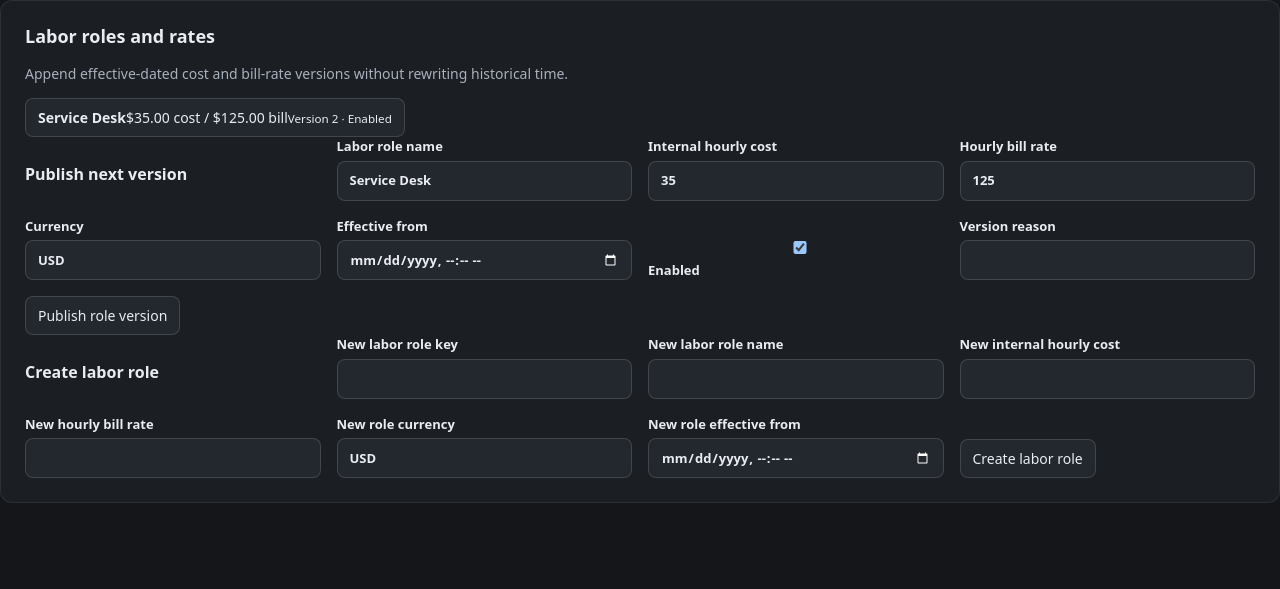
Test: lists effective labor versions and appends reasoned replacements
Expected: the text "Service Desk" is shown, [38, 108, 126, 127]
Expected: the text "$35.00 cost / $125.00 bill" is shown, [126, 108, 288, 127]
Step 1. Replace the text in the number field labelled "Internal hourly cost" with "40" → (796, 181), box [648, 161, 944, 201]
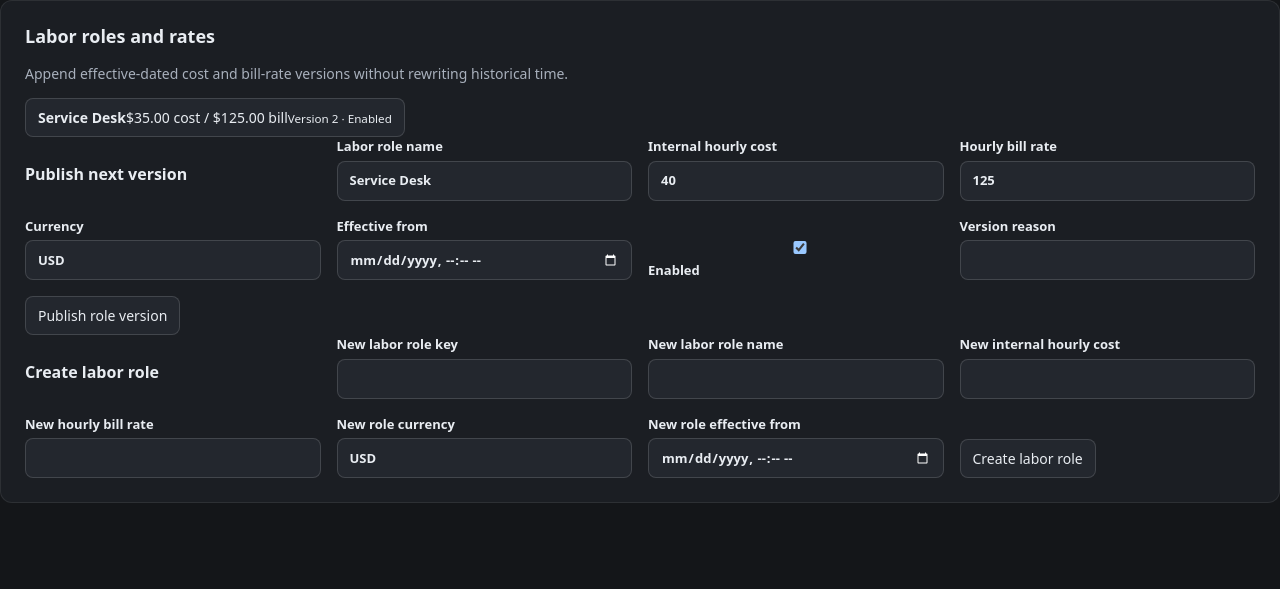
Step 2. Replace the text in the number field labelled "Hourly bill rate" with "130" → (1107, 181), box [960, 161, 1255, 201]
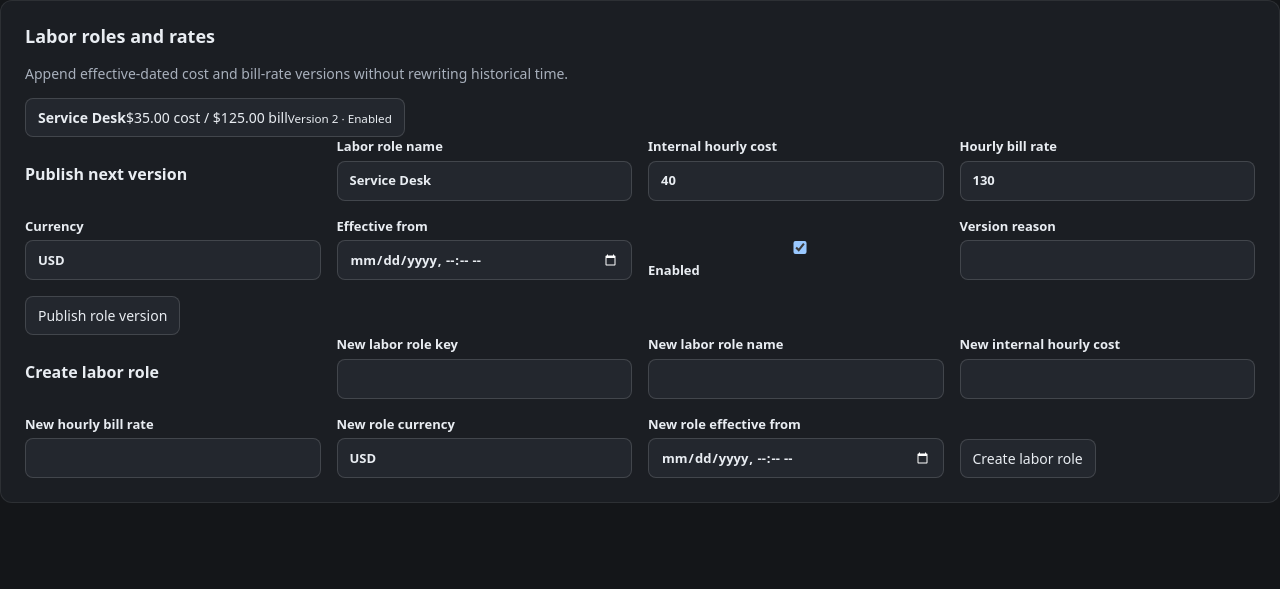
Step 3. Type "2026-09-01T00:00" into the field labelled "Effective from" → (484, 260), box [336, 240, 632, 280]
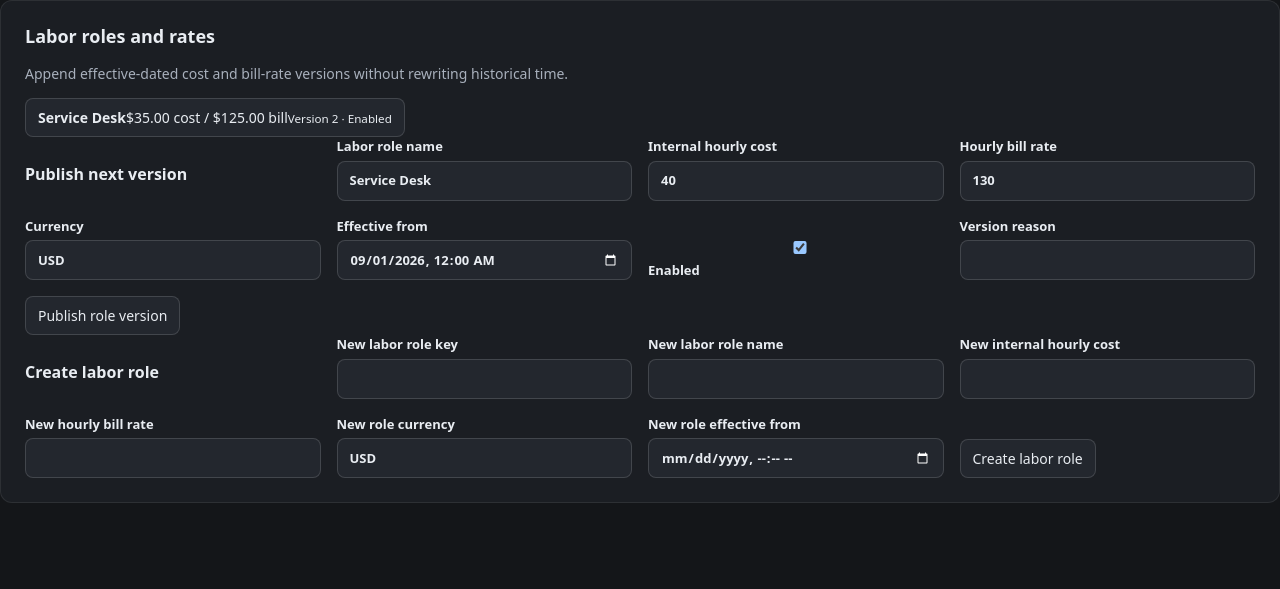
Step 4. Click the checkbox labelled "Enabled" → (800, 247), box [652, 241, 948, 254]
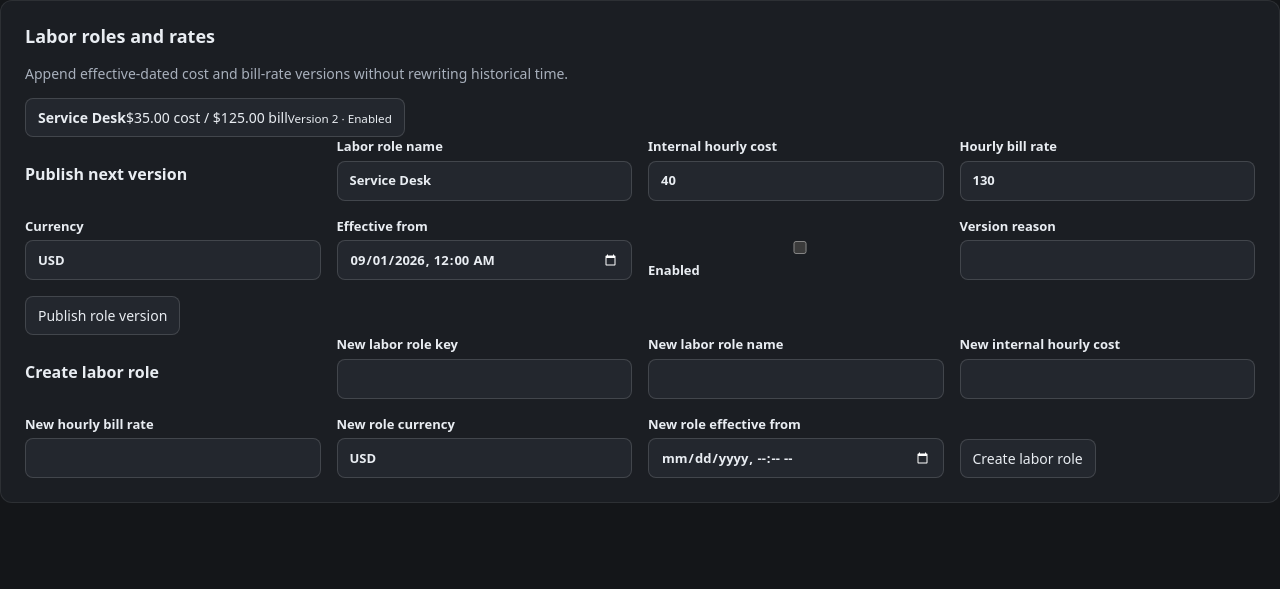
Step 5. Type "Retire legacy role" into the field labelled "Version reason" → (1107, 260), box [960, 240, 1255, 280]
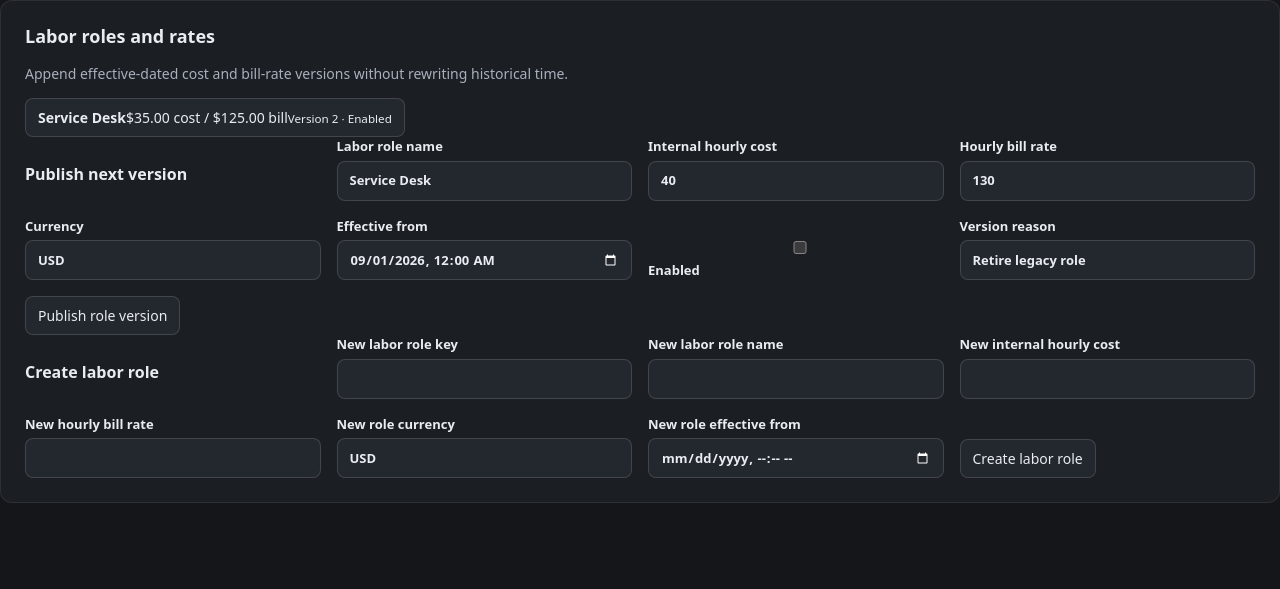
Step 6. Click the button "Publish role version" → (103, 316), box [25, 296, 180, 335]
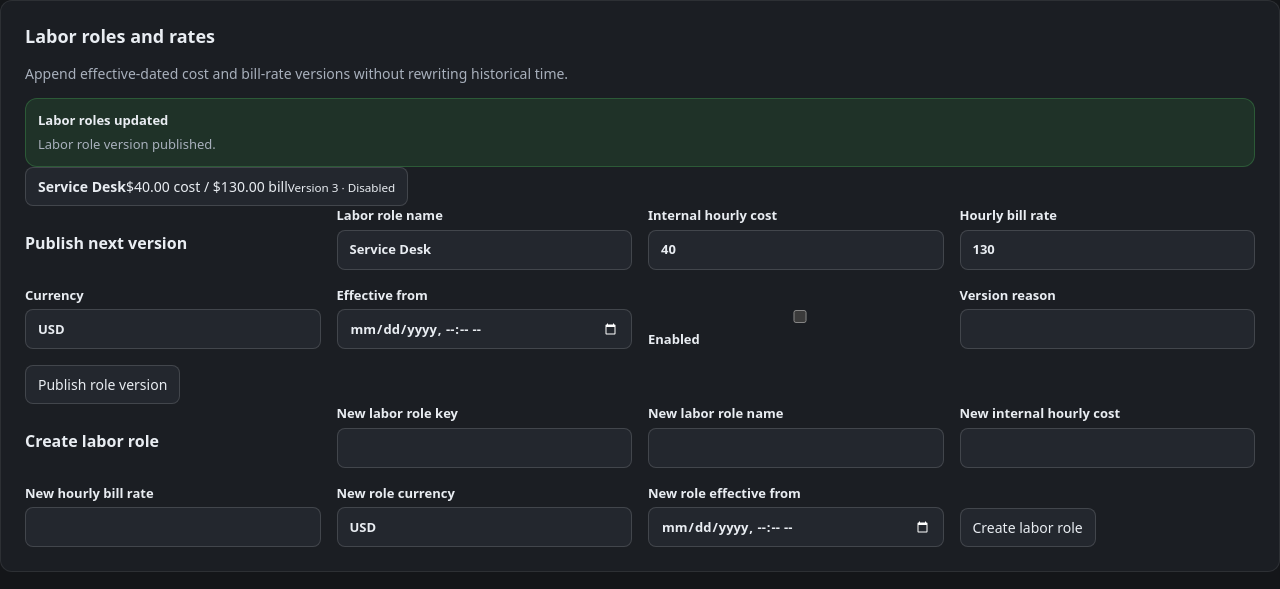
Expected: the text "Labor role version published." is shown, [38, 135, 216, 153]
